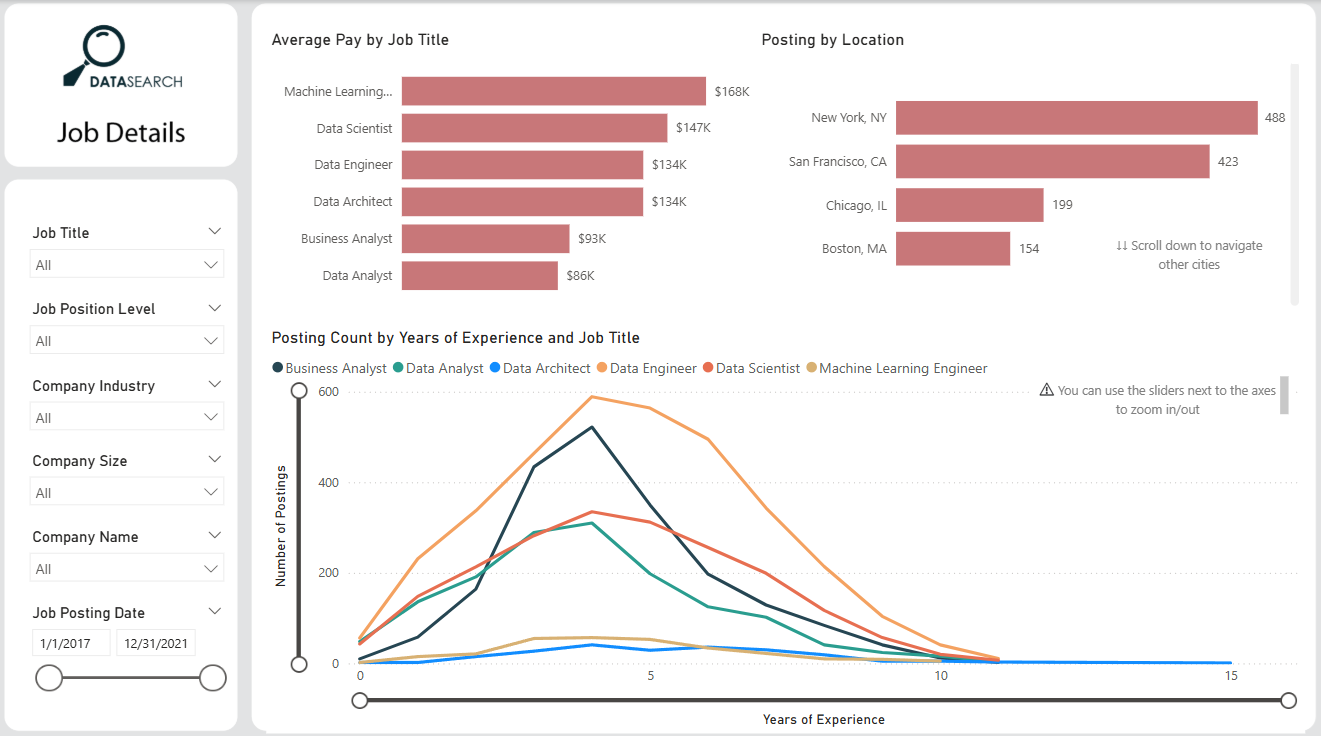

The dashboard page shown, as its layout file describes it:
{"tool":"powerbi","page":{"name":"JOBS-DETAILS-Dashboard","canvas":[1280,720],"ordinal":2},"visuals":[{"type":"image","box":[0,-23.3,1280.2,743],"z":500},{"type":"lineChart","fields":{"Category":["Job Postings.Years of Experience"],"Y":["_Measures.Posting Count"],"Series":["Job Postings.Job Title"]},"box":[267.1,310.8,986,384.7],"z":1000},{"type":"clusteredBarChart","title":"Average Pay by Job Title","fields":{"Category":["Job Postings.Job Title"],"Y":["_Measures.Average Pay"]},"box":[267.1,28.6,465.3,267.1],"z":2000},{"type":"clusteredBarChart","title":"Posting by Location","fields":{"Y":["_Measures.Posting Count"],"Category":["Job Postings.Job Location"]},"box":[732.4,28.6,520.7,267.1],"z":3000},{"type":"slicer","fields":{"Values":["Job Postings.Job Title"]},"box":[31.7,207.8,205.1,72.9],"z":4000},{"type":"slicer","fields":{"Values":["Job Postings.Job Position Level"]},"box":[31.7,280.8,205.1,71.6],"z":5000},{"type":"slicer","fields":{"Values":["Job Postings.Company Industry"]},"box":[31.7,352.3,205.1,71.6],"z":6000},{"type":"slicer","fields":{"Values":["Job Postings.Company Size"]},"box":[31.7,423.9,205.1,72.9],"z":7000},{"type":"slicer","fields":{"Values":["Job Postings.Company Name"]},"box":[31.7,496.9,205.1,71.6],"z":8000},{"type":"slicer","fields":{"Values":["Job Postings.Job Posting Date"]},"box":[31.7,568.4,205.1,151.4],"z":9000},{"type":"textbox","box":[992.2,352.8,250.6,47.5],"z":10000},{"type":"textbox","box":[1057,218.9,174.2,47.5],"z":11000},{"type":"shape","box":[61.5,23.9,150.4,90.6],"z":12000}]}

Visuals, with their boxes in screenshot pixels (x1, y1, x2, y2), scaled from the page's 1280x720 canvas onto the 1321x736 screenshot:
image: left=0, top=0, right=1320, bottom=735
lineChart - Job Postings.Years of Experience x _Measures.Posting Count: left=276, top=318, right=1293, bottom=711
"Average Pay by Job Title" clusteredBarChart: left=276, top=29, right=756, bottom=302
"Posting by Location" clusteredBarChart: left=756, top=29, right=1293, bottom=302
slicer - Job Postings.Job Title: left=33, top=212, right=244, bottom=287
slicer - Job Postings.Job Position Level: left=33, top=287, right=244, bottom=360
slicer - Job Postings.Company Industry: left=33, top=360, right=244, bottom=433
slicer - Job Postings.Company Size: left=33, top=433, right=244, bottom=508
slicer - Job Postings.Company Name: left=33, top=508, right=244, bottom=581
slicer - Job Postings.Job Posting Date: left=33, top=581, right=244, bottom=735
textbox: left=1024, top=361, right=1283, bottom=409
textbox: left=1091, top=224, right=1271, bottom=272
shape: left=63, top=24, right=219, bottom=117
